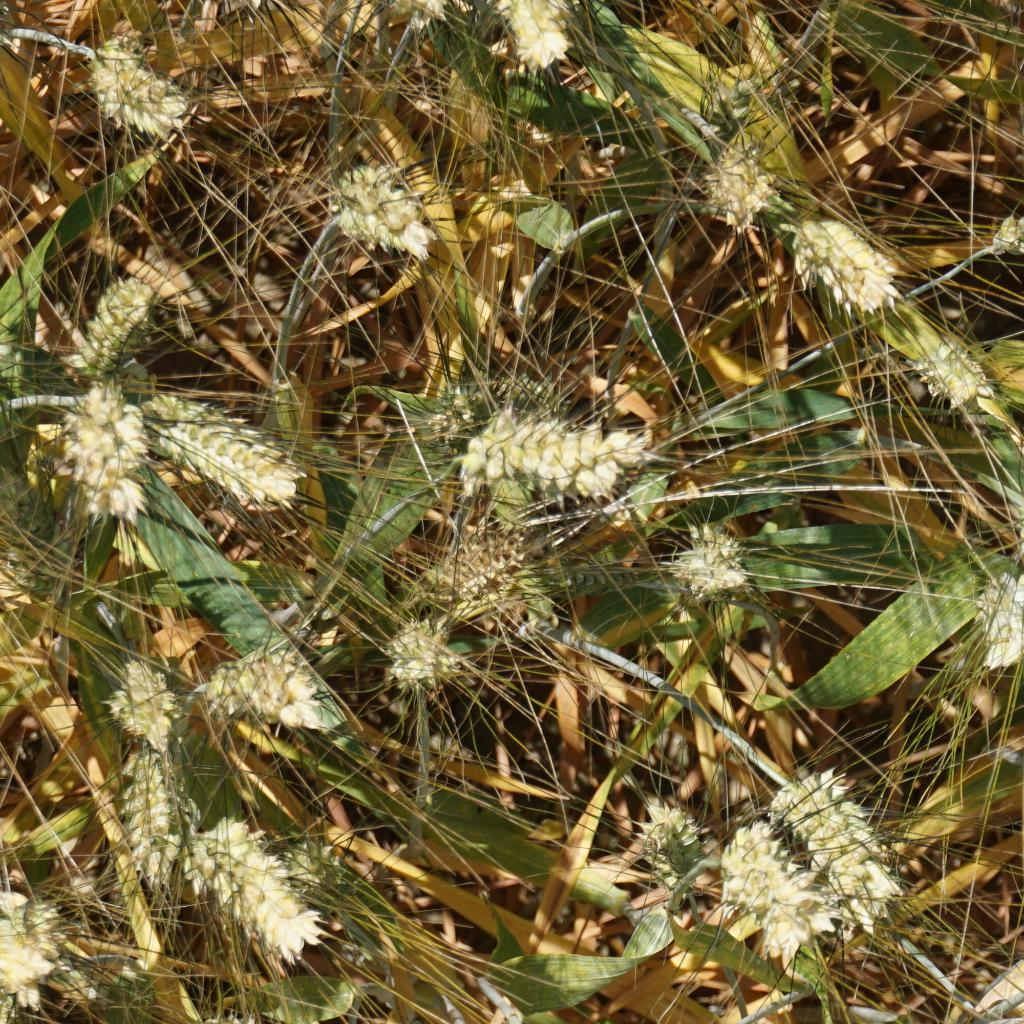0-0: (702, 802, 832, 967), (779, 768, 922, 909), (147, 389, 303, 512), (179, 815, 309, 956), (403, 354, 571, 460), (40, 26, 184, 141), (790, 209, 909, 320), (64, 387, 152, 531), (467, 408, 625, 484), (197, 649, 325, 742), (621, 794, 725, 906), (0, 883, 81, 1013), (111, 742, 186, 881), (662, 515, 766, 612), (71, 267, 150, 376), (422, 525, 525, 598), (286, 832, 373, 918), (104, 647, 184, 740), (963, 559, 1024, 672), (369, 602, 457, 676), (704, 145, 781, 222), (915, 327, 994, 399), (538, 553, 643, 599), (987, 166, 1024, 264), (998, 470, 1024, 585), (201, 990, 267, 1024)
